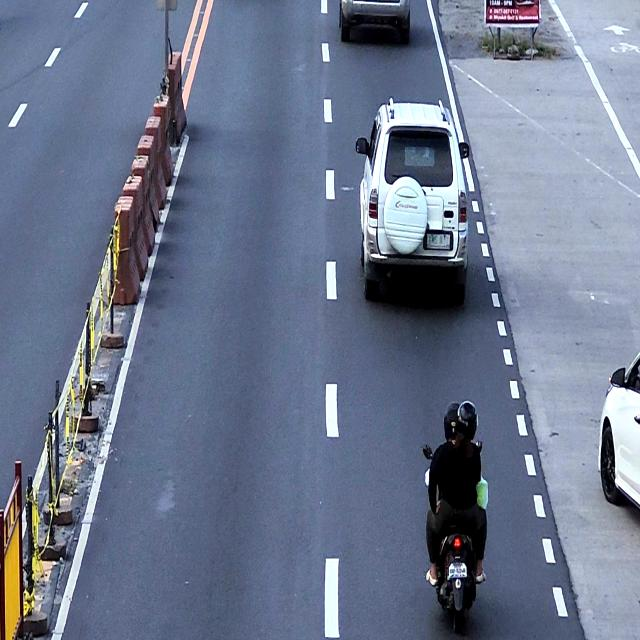Car: (355, 97, 470, 302), (598, 351, 640, 508), (338, 0, 410, 43)
License-Plate: (426, 232, 451, 252), (448, 562, 466, 578)
Motorcycle: (422, 440, 488, 634)
